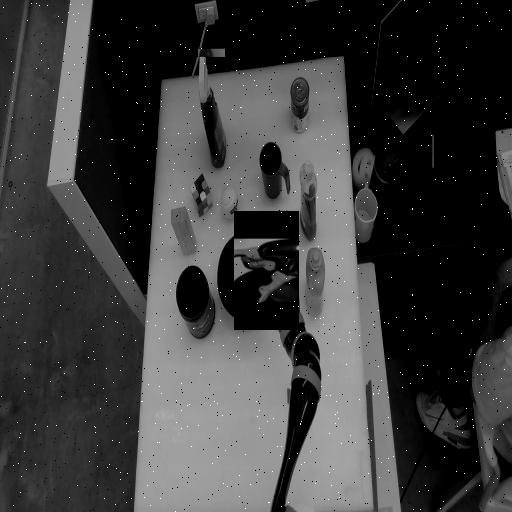bowl: (217, 250, 268, 302)
cleanser: (300, 162, 316, 241)
coffee_can: (176, 267, 214, 338)
jaco: (234, 238, 299, 303)
meat_can: (267, 244, 289, 298)
mug: (259, 143, 289, 199)
mustard_bottle: (305, 249, 324, 317)
rubik: (190, 174, 212, 217)
soup_can: (290, 97, 308, 115)
tennis_ball: (221, 188, 238, 218)
windex: (198, 49, 225, 167)
wooden_block: (170, 219, 195, 244)
workspace: (135, 57, 372, 509)
